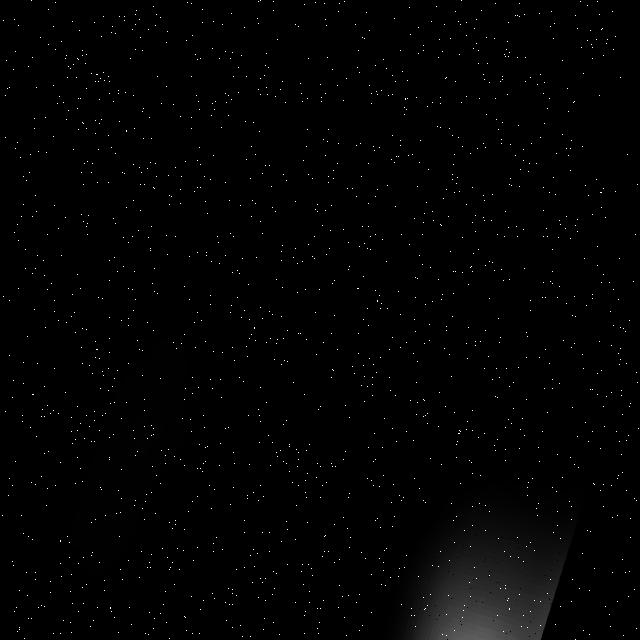person: (350, 396, 605, 640)
